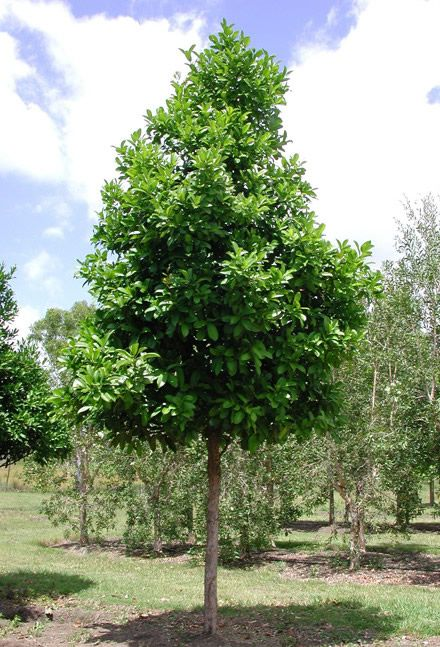tree: (56, 17, 388, 637)
